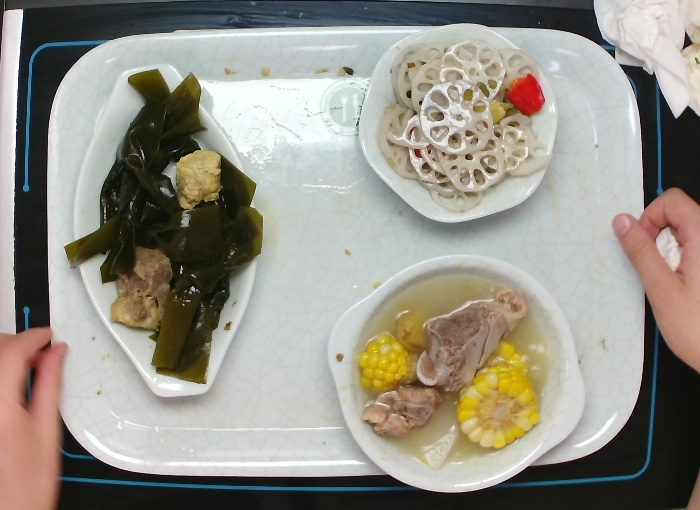JYsf-Shuang_Er_Wan: (323, 250, 590, 497)
JYsf-Yu_Pan: (68, 59, 260, 402)
WCQzf-Hua_Duo_Wan: (356, 20, 562, 225)
